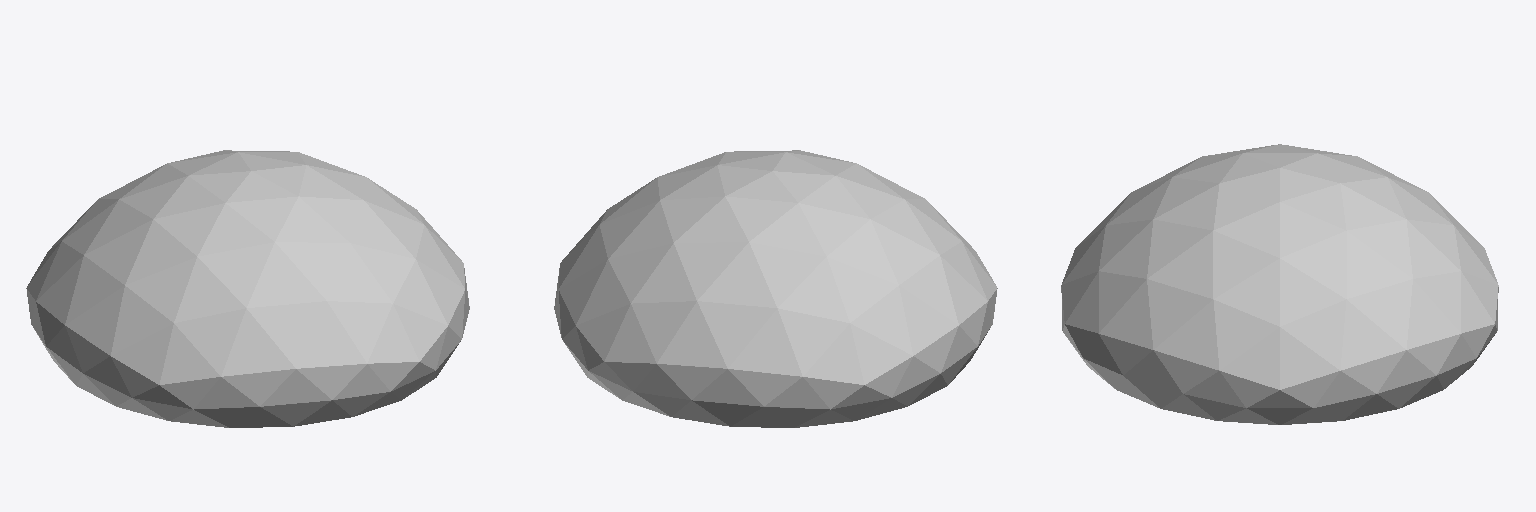
Rendered from chesspiece.obj.
The picture shows the model from 3 angles: view 1: azimuth 30°, elevation 25°; view 2: azimuth 150°, elevation 25°; view 3: azimuth 270°, elevation 25°; orthographic projection.
Parts seen in each view (by area): view 1: chesspiece; view 2: chesspiece; view 3: chesspiece.
Part boxes in pixels (x1,y1,x2,y2): chesspiece: (26, 150, 469, 427); chesspiece: (554, 150, 997, 427); chesspiece: (1061, 144, 1498, 424).
Bounding box in the file's own units: 0.0873 × 0.0375 × 0.0864.